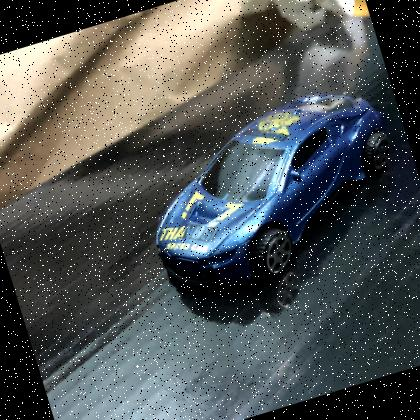Car: (156, 93, 392, 291)
